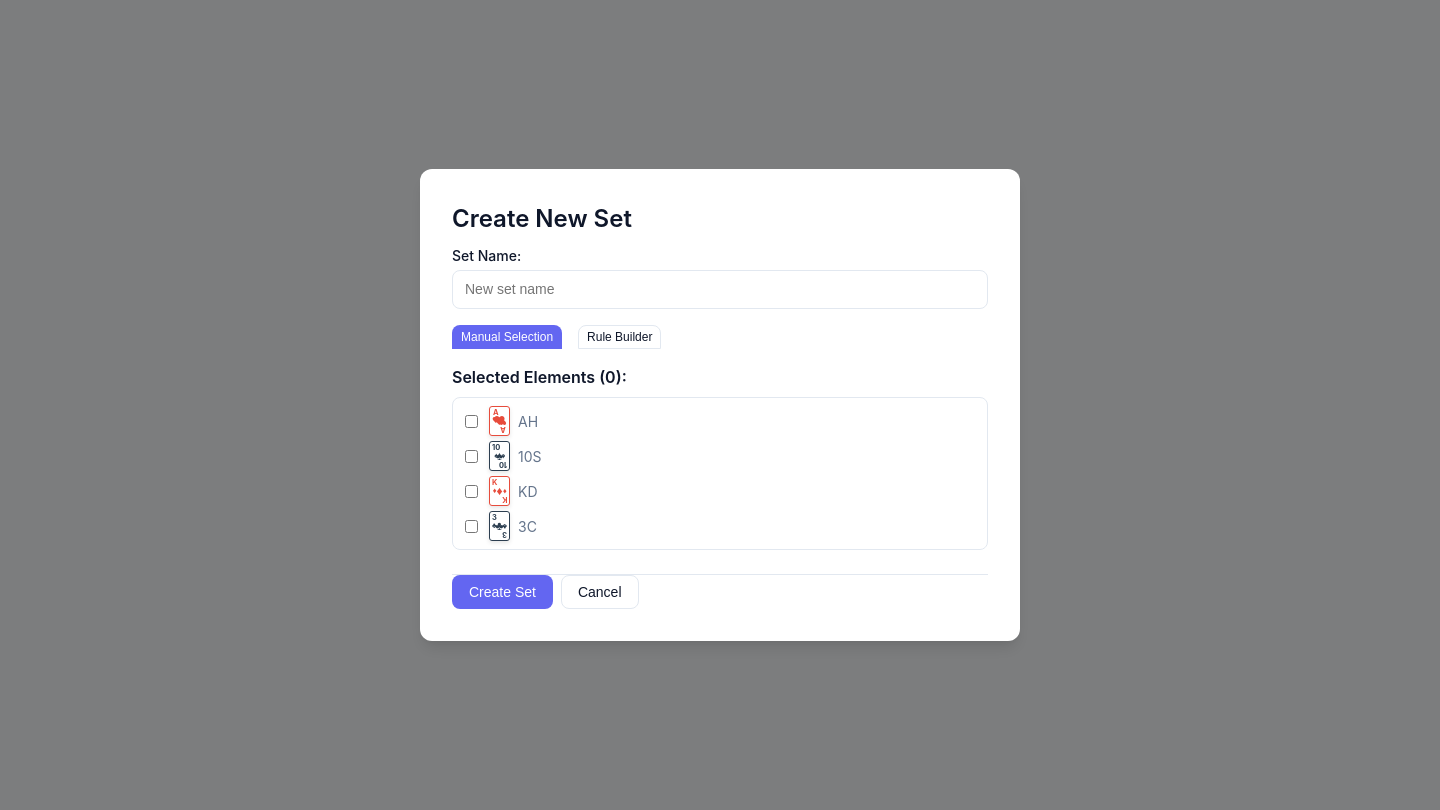
Test case: SetEditModal Card Rules › applies COLOR rule correctly
This screenshot has width=1440, height=810.
Click the button "Rule Builder" at (620, 337), box [578, 325, 662, 349]
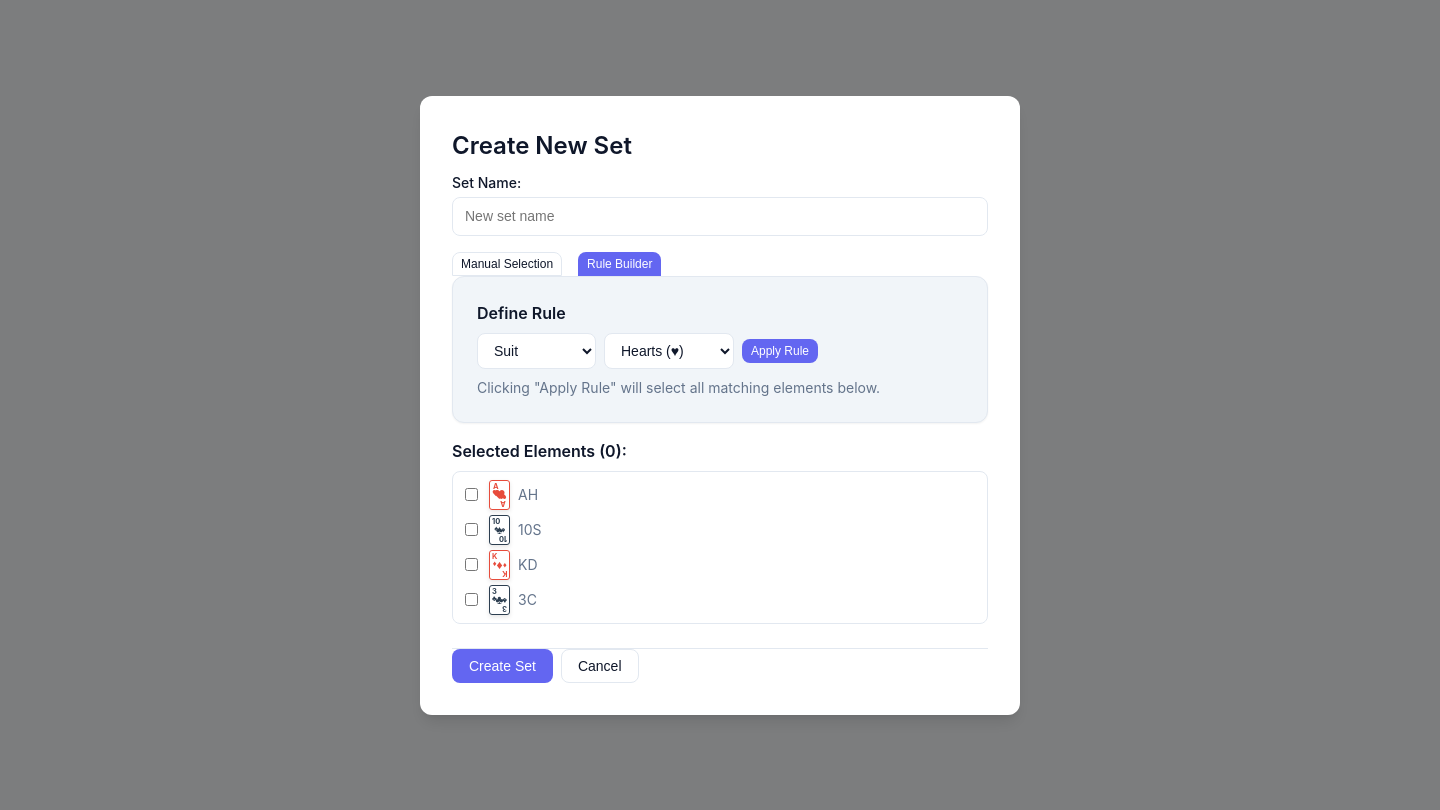
Select "Color" in the 1st dropdown showing "Suit" at (536, 350), box [477, 332, 596, 368]
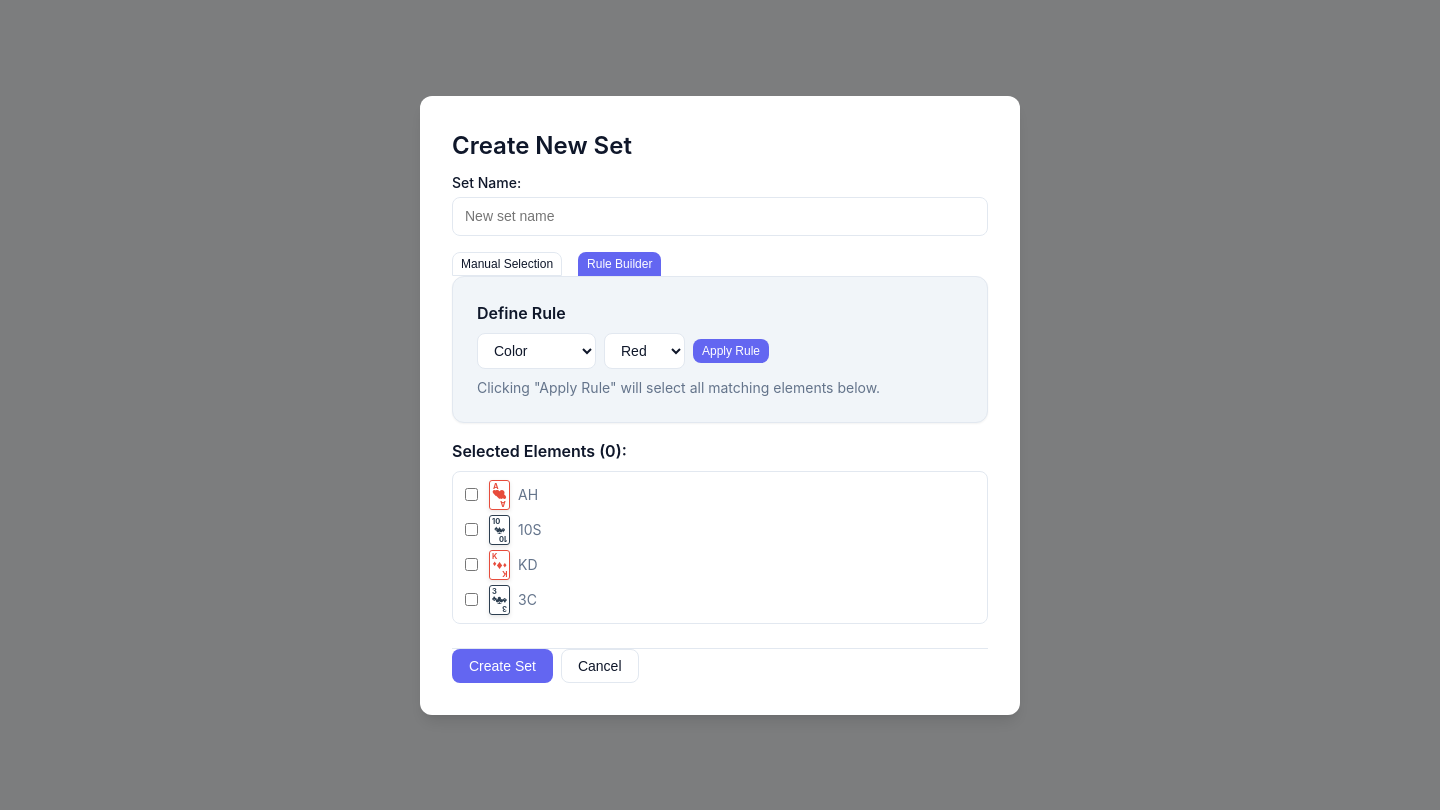
# Default is RED
Click the button "Apply Rule" at (731, 350), box [693, 338, 769, 362]
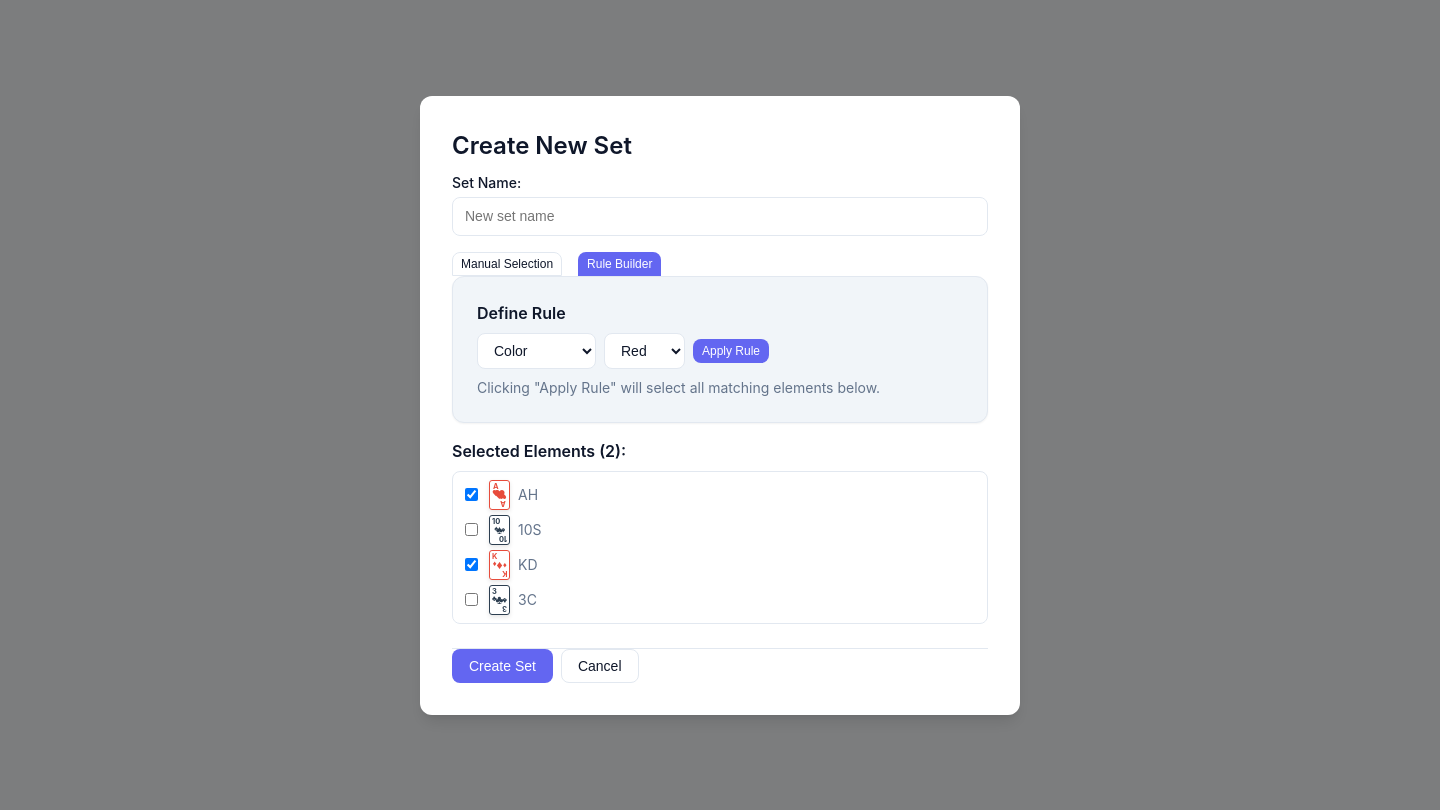
Expected: the checkbox labelled "10 ♠ ♠ 10 ♠ 10S" is not checked, [465, 523, 478, 536]
Expected: the checkbox labelled "A ♥ ♥ A ♥ AH" is checked, [465, 488, 478, 501]
